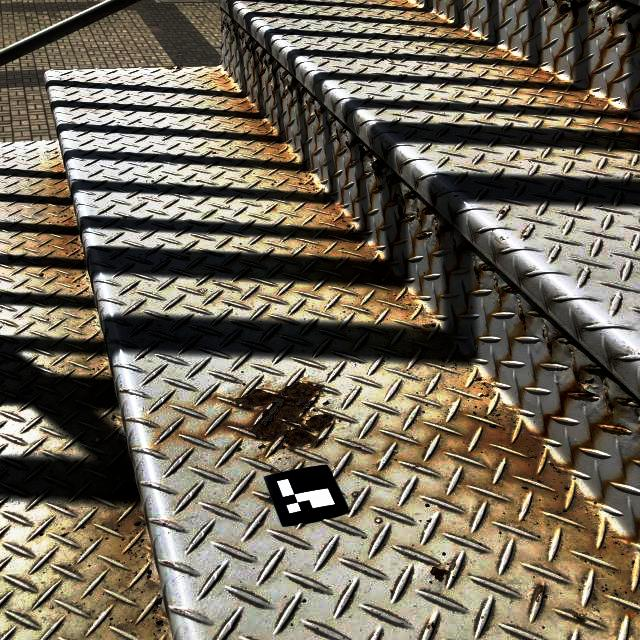Corrosion: (228, 379, 335, 452), (358, 142, 382, 178), (606, 10, 633, 34), (558, 0, 591, 18), (430, 567, 449, 581), (605, 36, 623, 48), (396, 197, 405, 219), (586, 8, 597, 26), (534, 584, 545, 602), (385, 172, 398, 183), (473, 264, 480, 282), (546, 341, 555, 355), (518, 313, 525, 329), (344, 140, 351, 155), (574, 615, 588, 622), (577, 393, 596, 398), (540, 0, 550, 9), (627, 22, 635, 33), (392, 191, 400, 201), (606, 403, 616, 411), (417, 211, 422, 225), (553, 0, 564, 4), (507, 285, 518, 289)
